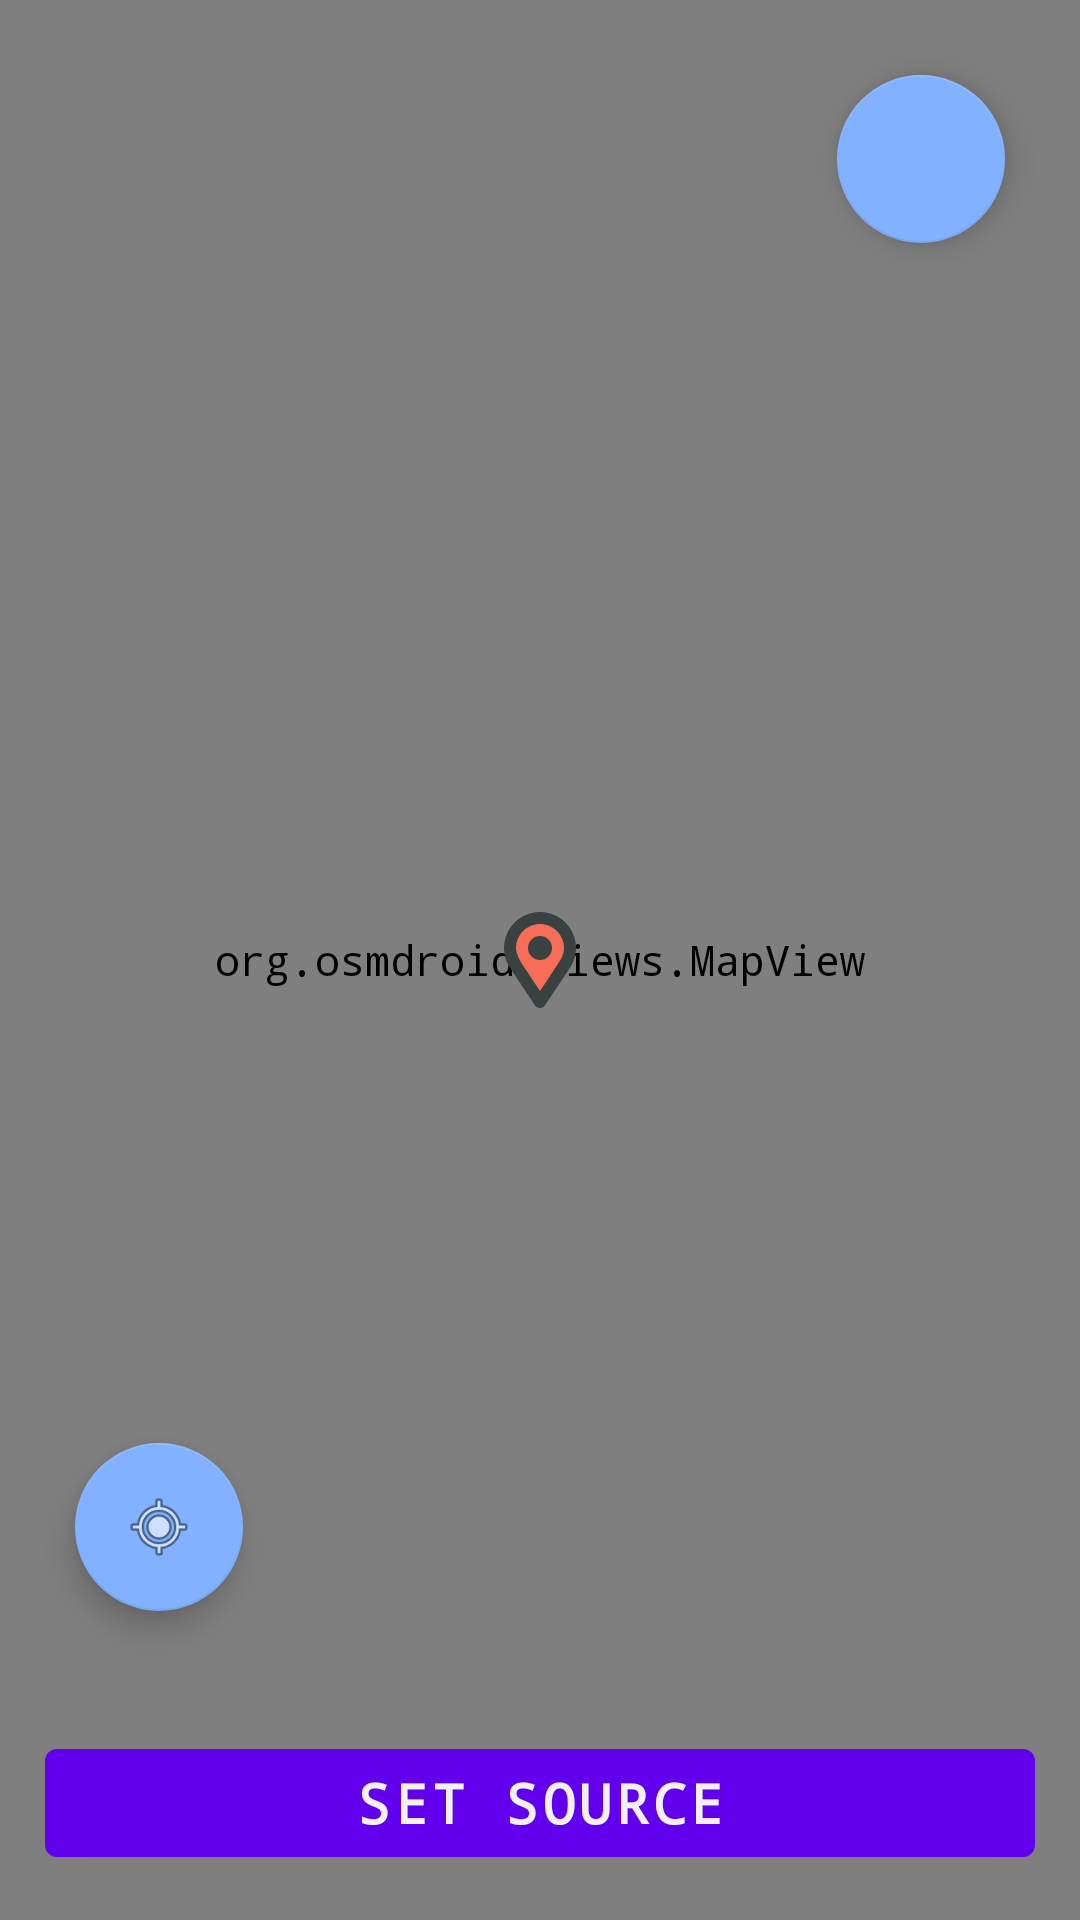

Where to tap for icons on this 1080x1920 app screen, as [x,y]:
location pin: [540,960]
mylocation: [159,1527]
